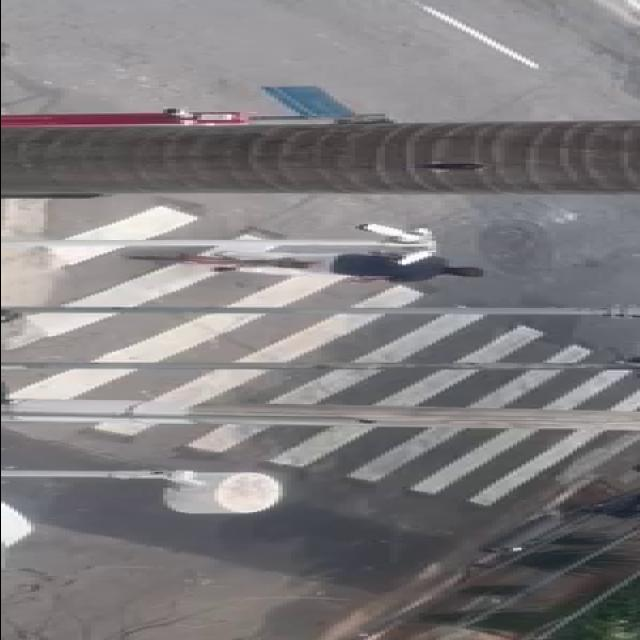bicycle: (134, 248, 497, 288)
